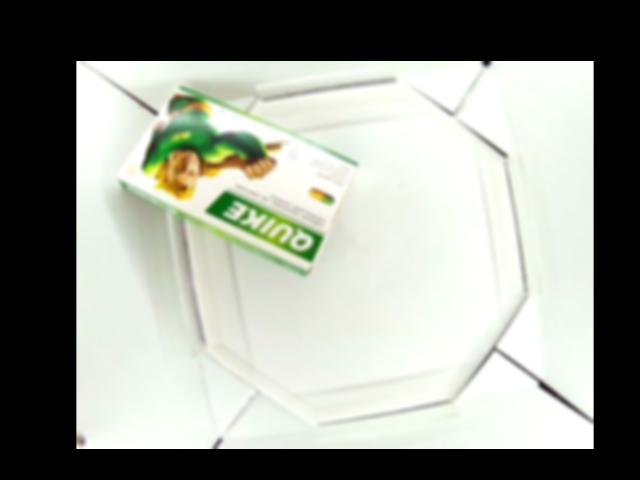Medicine: (116, 82, 357, 278)
